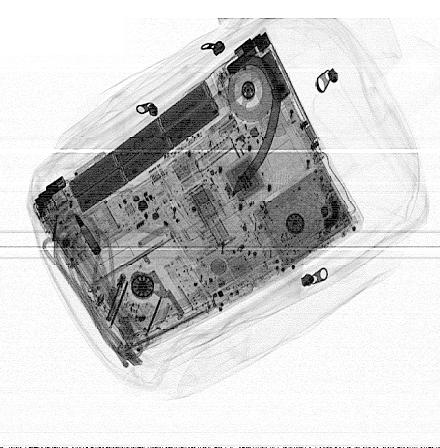Bullet: (74, 212, 102, 256)
